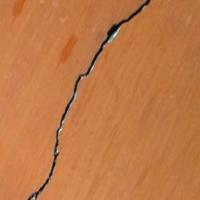crack: (27, 0, 157, 199)
